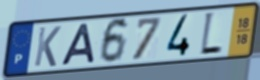4: (164, 13, 192, 59)
6: (96, 16, 132, 67)
7: (131, 15, 163, 62)
A: (58, 22, 97, 67)
K: (32, 25, 63, 68)
L: (198, 11, 224, 59)
